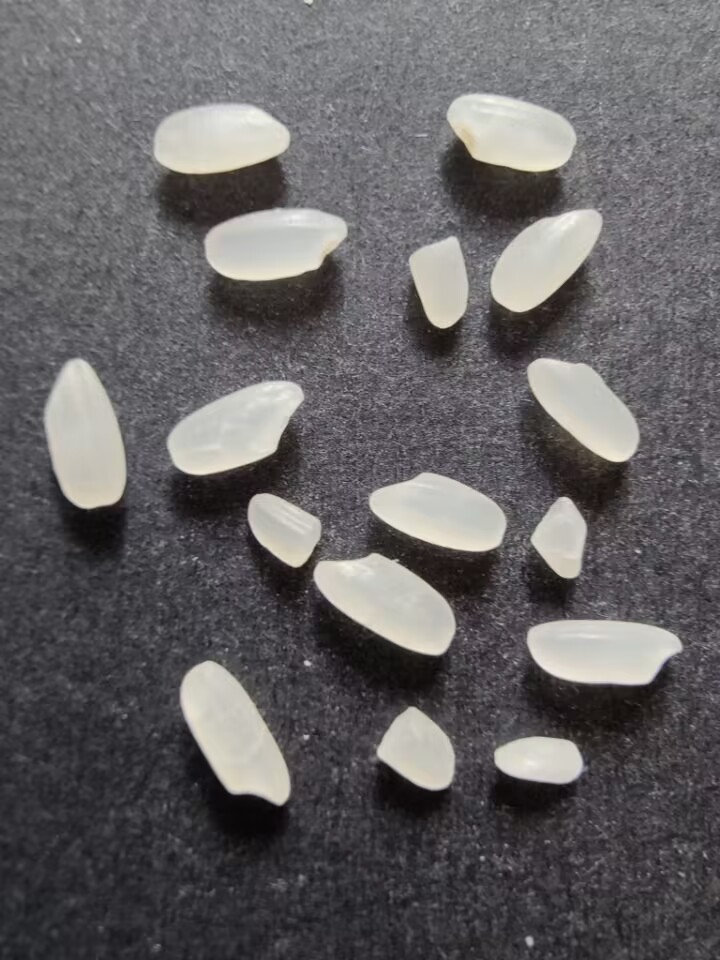broken: (374, 700, 457, 797), (402, 234, 470, 334), (245, 489, 322, 573), (488, 733, 587, 790), (524, 494, 587, 582)
rice: (176, 657, 296, 809), (310, 551, 457, 660), (164, 377, 307, 481), (41, 355, 131, 517), (524, 355, 643, 466), (488, 203, 605, 312), (363, 467, 509, 554), (198, 205, 353, 285), (523, 617, 688, 688), (443, 89, 580, 173), (149, 100, 294, 178)
